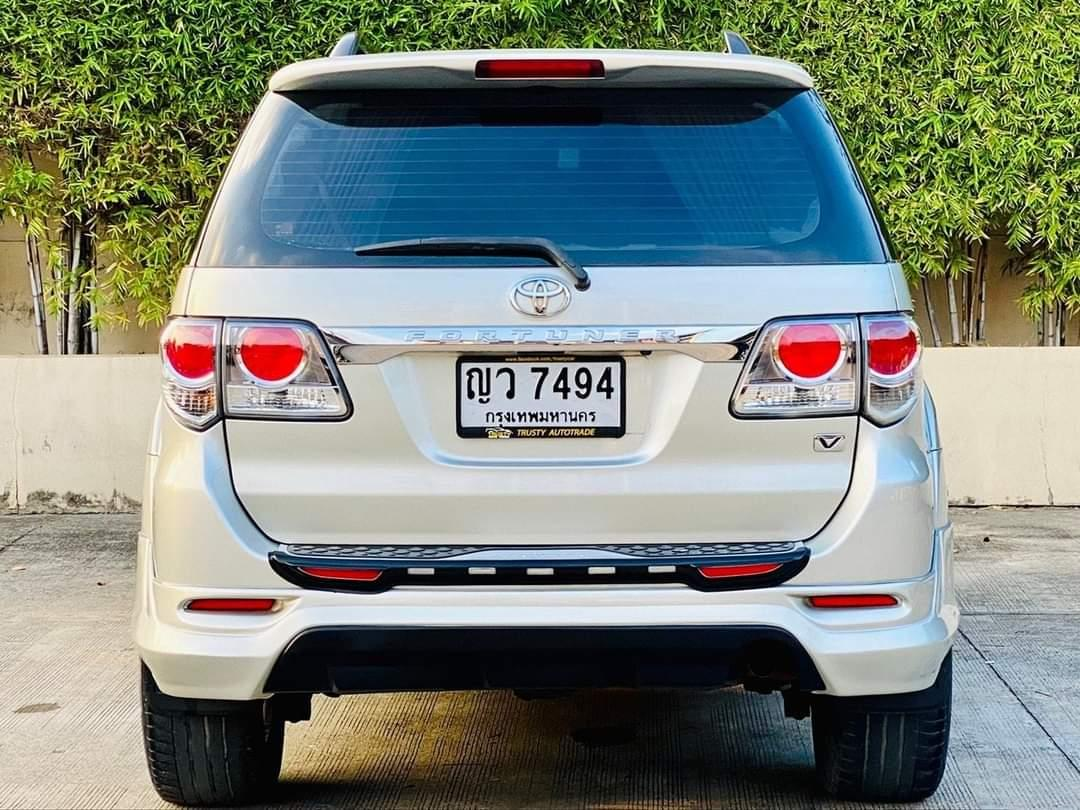license-plate: (455, 351, 627, 442)
